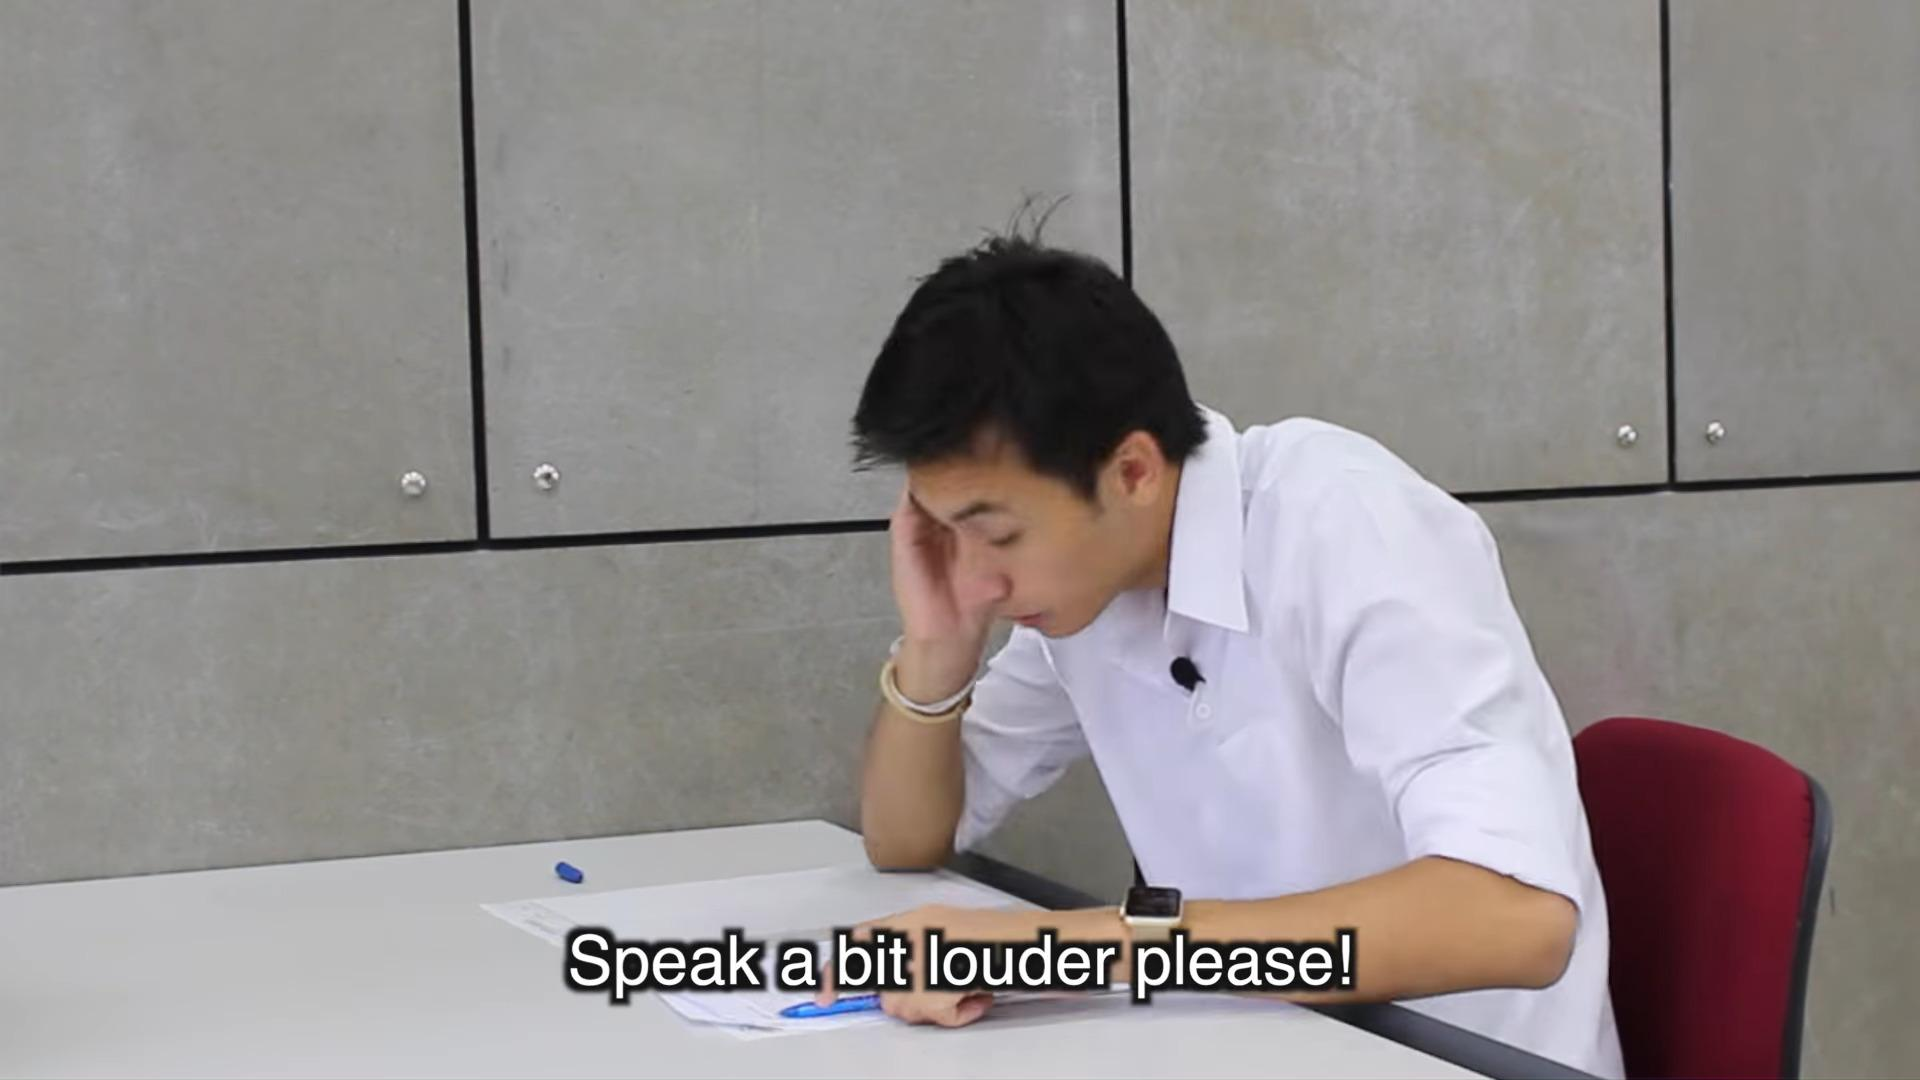cheating: (440, 211, 1655, 922)
